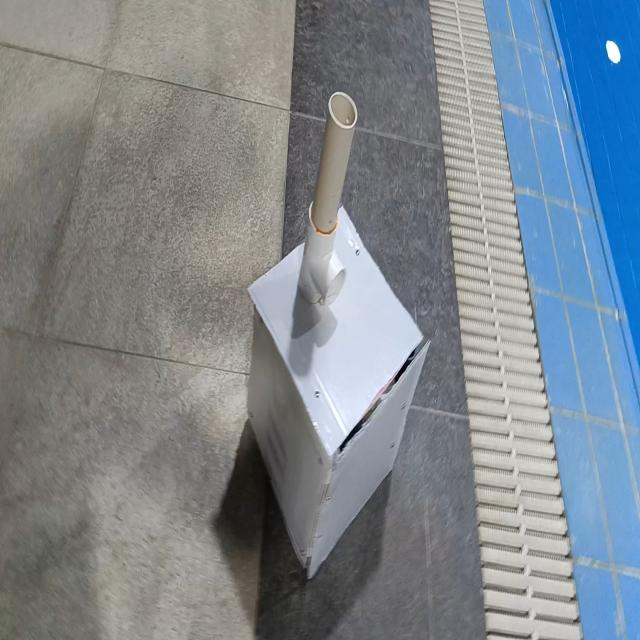Cube: (245, 203, 431, 580)
